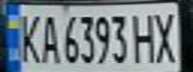3: (109, 11, 133, 64), (78, 11, 96, 64)
6: (60, 11, 81, 64)
9: (93, 11, 112, 64)
A: (36, 10, 60, 64)
H: (130, 8, 160, 64)
K: (15, 9, 42, 65)
X: (151, 7, 184, 64)
